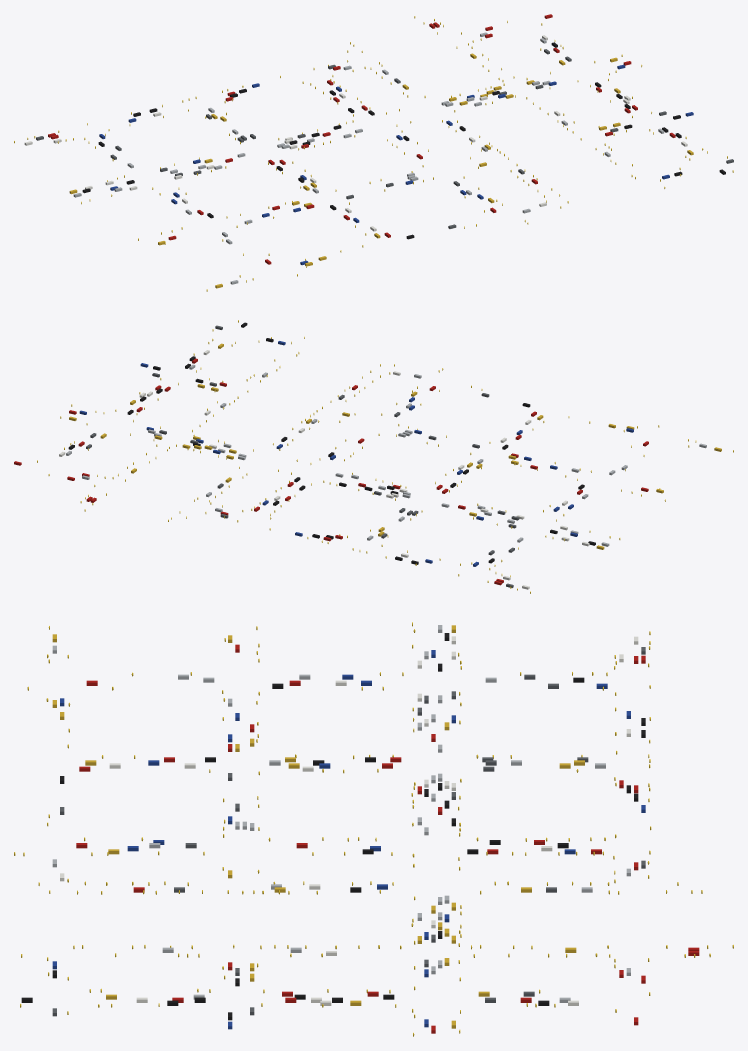
The model's file is 07_Pips_Autos.glb.
The picture shows the model from 3 angles, top to bottom: view 1: azimuth 30°, elevation 25°; view 2: azimuth 150°, elevation 25°; view 3: azimuth 270°, elevation 25°; orthographic projection. The views are drawn at different scales.
Size of the model in its own units: 596 by 2.77 by 442.
